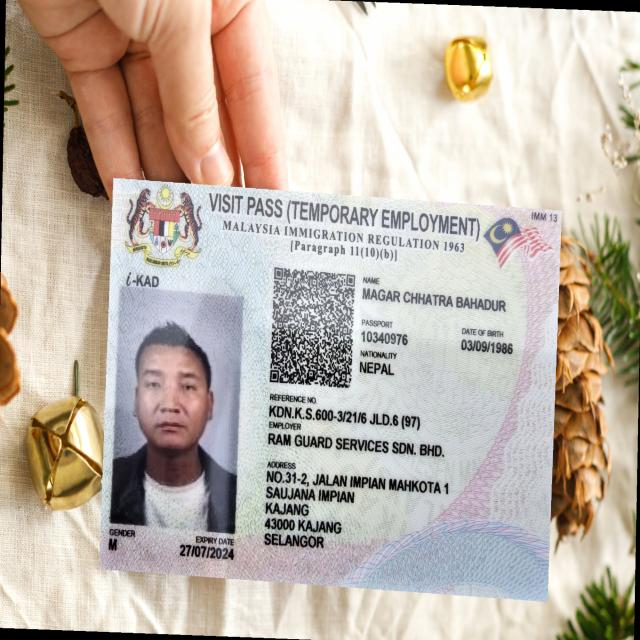ikad-temp: (99, 177, 562, 600)
